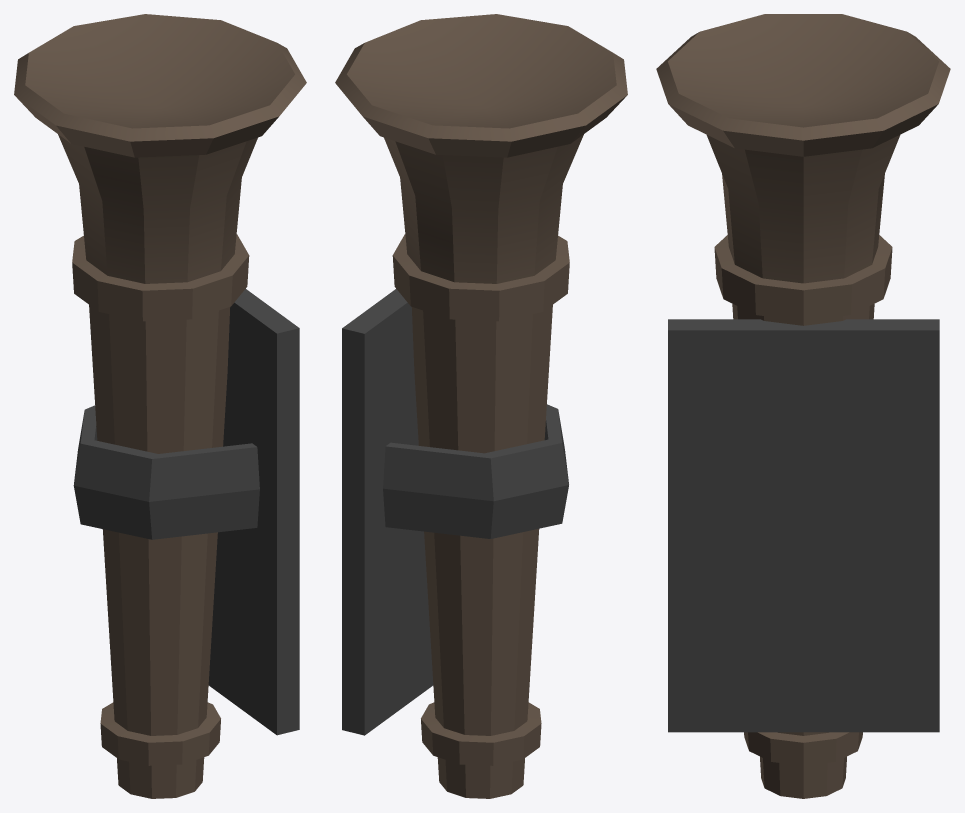
Rendered from UnlitTorchWall.fbx.
3 renders of one model, left to right at view 1: azimuth 30°, elevation 25°; view 2: azimuth 150°, elevation 25°; view 3: azimuth 270°, elevation 25°, orthographic.
Visible parts, largest first — view 1: UnlitTorch_Wall; view 2: UnlitTorch_Wall; view 3: UnlitTorch_Wall.
Boxes of the visible parts, left/top/right/bottom form: UnlitTorch_Wall: left=14, top=14, right=306, bottom=798; UnlitTorch_Wall: left=335, top=14, right=627, bottom=798; UnlitTorch_Wall: left=656, top=14, right=950, bottom=798.
Size of the model in its own units: 15.51 by 41.72 by 15.67.
